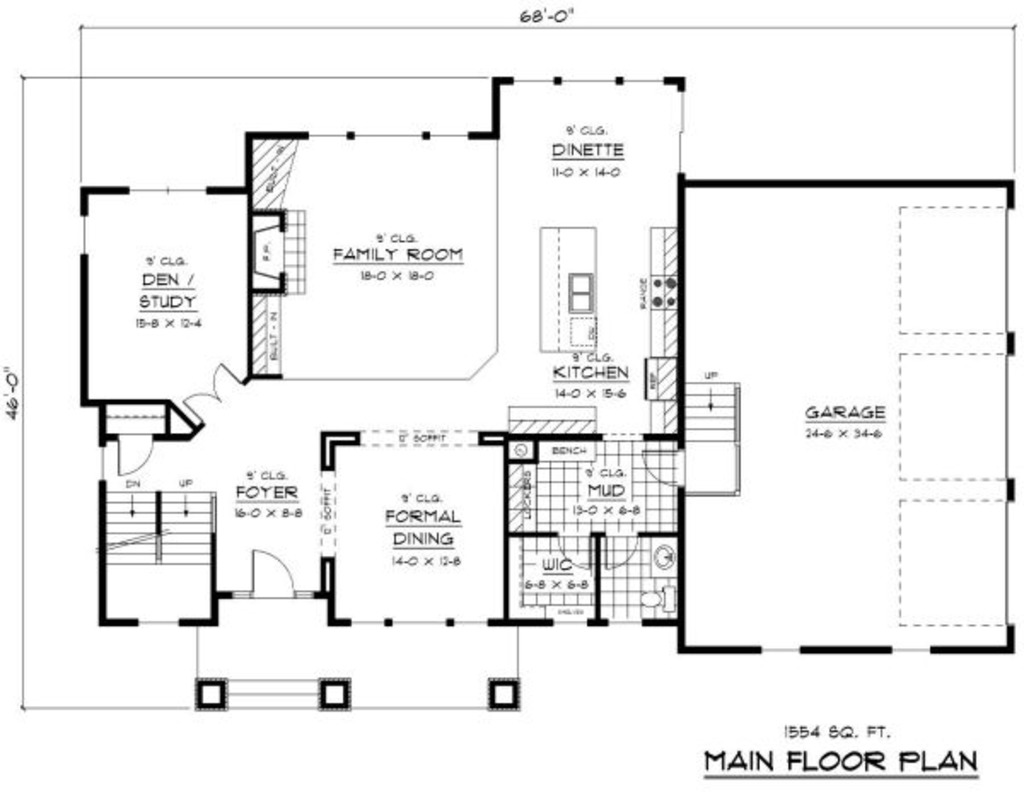door: (182, 363, 243, 421), (245, 543, 295, 594), (115, 432, 154, 480)
kitchen_bar: (534, 223, 600, 352)
stairs: (105, 483, 212, 622), (678, 367, 740, 501)
windows: (304, 129, 471, 144), (501, 73, 667, 88), (115, 184, 211, 199)
